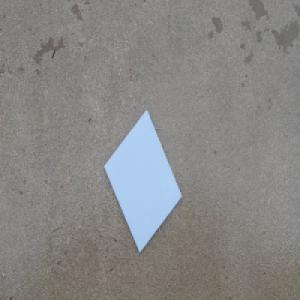PaintChip: (102, 108, 183, 255)
